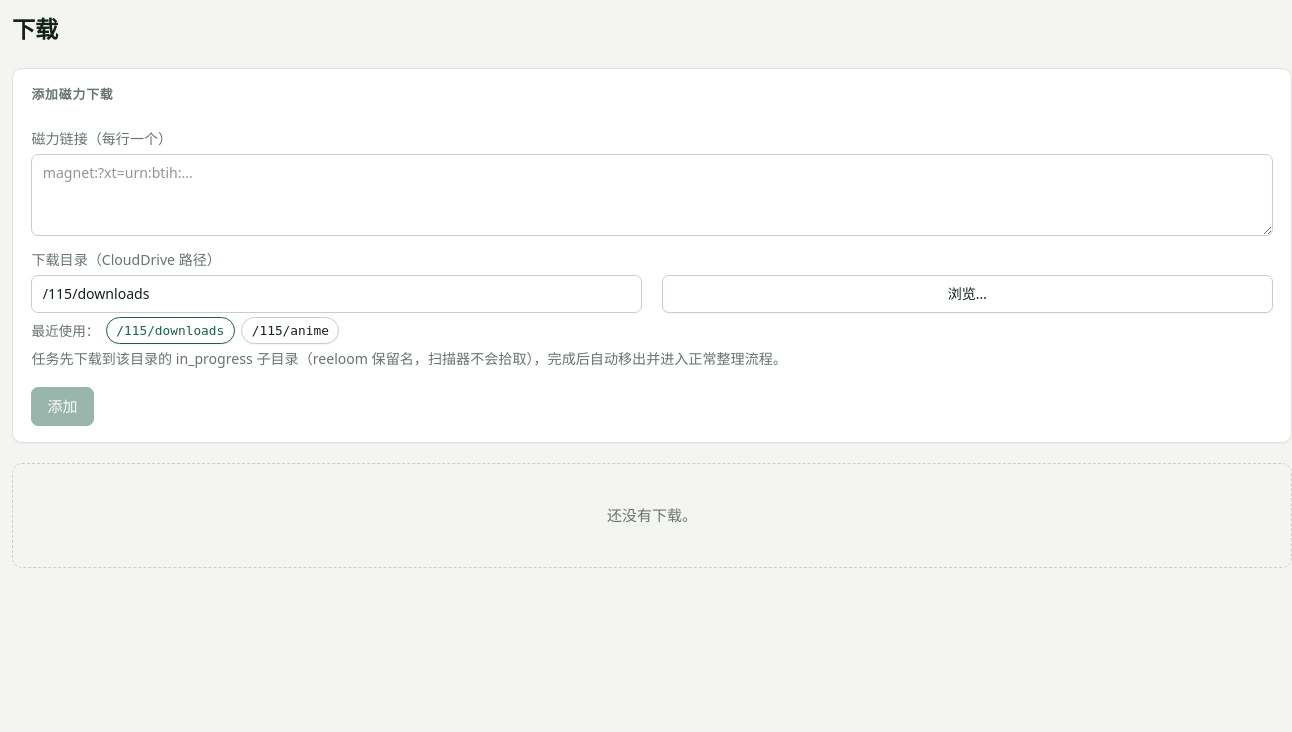
it: DownloadsPage › lists recent directories as visible chips that fill the input
Expected: the heading "添加磁力下载" is shown, x1=31 y1=85 x2=114 y2=103
Expected: the field with placeholder "/115/downloads" holds "/115/downloads", x1=31 y1=275 x2=642 y2=313
Click the button "/115/anime" at (290, 330), box x1=241 y1=317 x2=339 y2=344
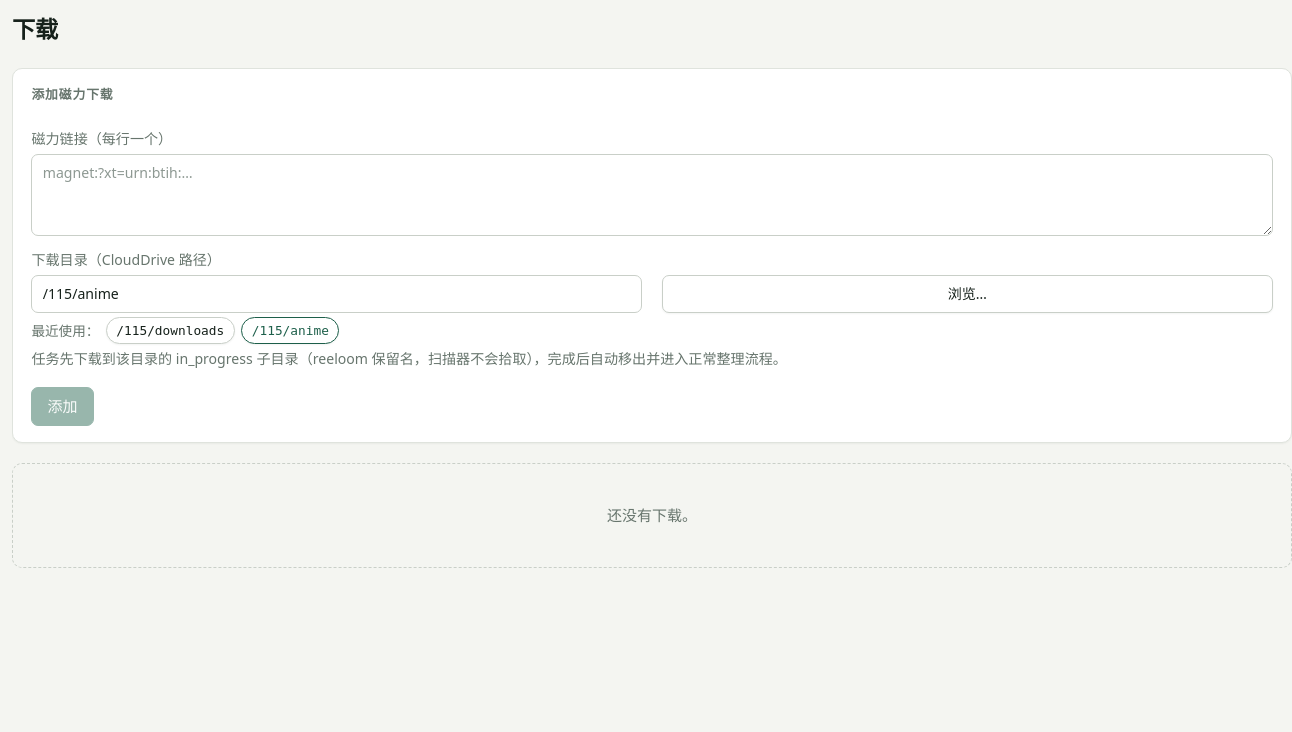
Result: the field with placeholder "/115/downloads" holds "/115/anime" at x1=31 y1=275 x2=642 y2=313
